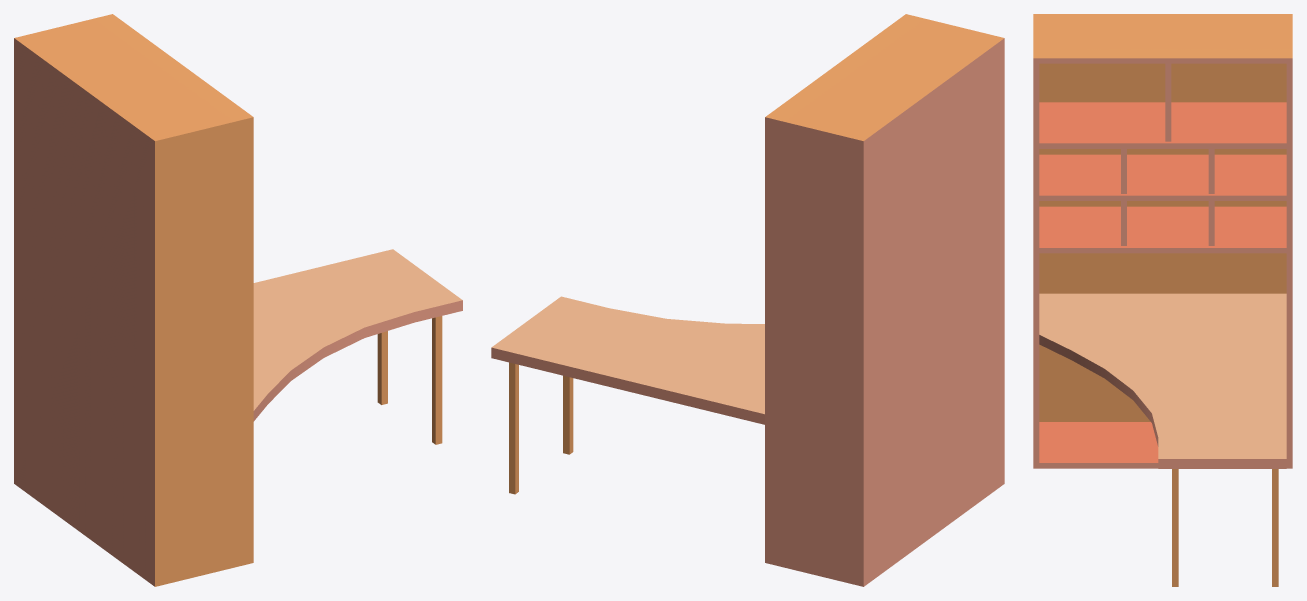
File: closet_034.fbx
3 views of the same model, side by side, from view 1: azimuth 30°, elevation 25°; view 2: azimuth 150°, elevation 25°; view 3: azimuth 270°, elevation 25° (orthographic). The views are drawn at different scales.
Parts seen in each view (by area): view 1: closet_034; view 2: closet_034; view 3: closet_034.
Boxes of the visible parts, x1,y1,x2,y2 form: closet_034: (14,14,462,586); closet_034: (491,14,1004,586); closet_034: (1033,14,1292,586).
Bounding box in the file's own units: 219 × 143 × 249.
